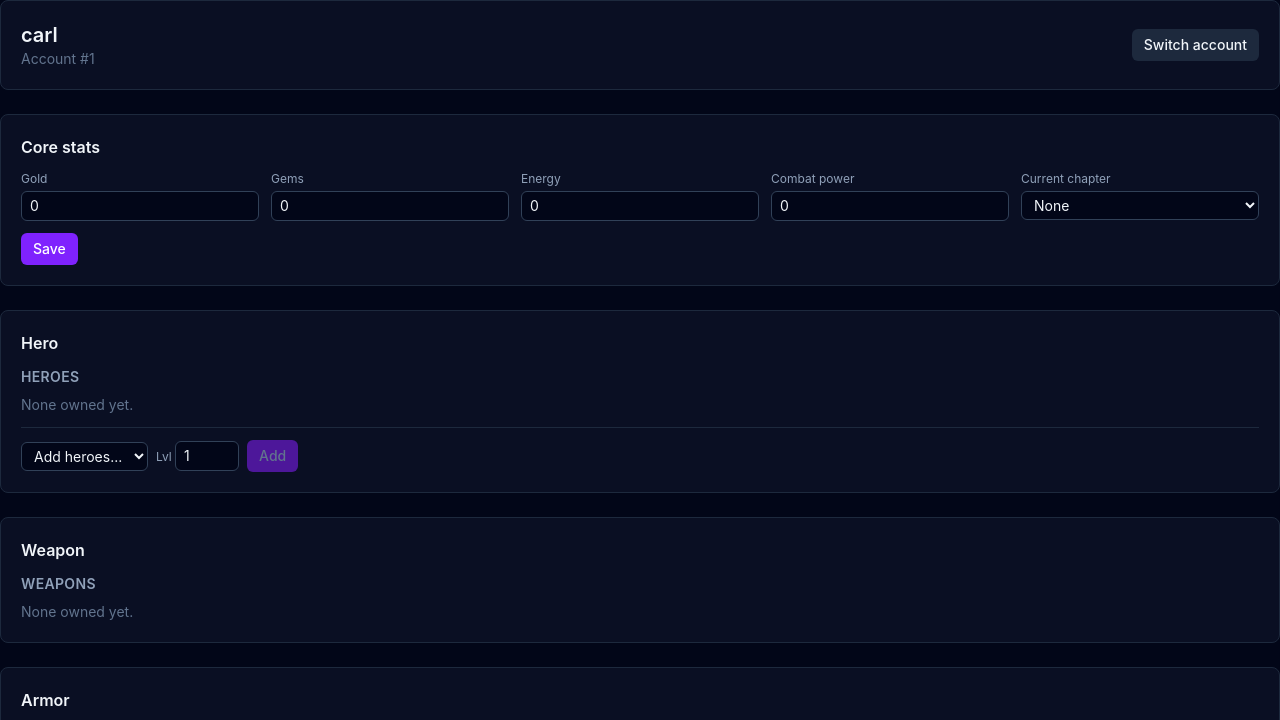
Test case: MyAccountPage › adds a hero and refreshes the account afterward
Expected: the heading "carl" is shown, [21, 23, 58, 47]
Select "Test Hero" in the dropdown "Add heroes..." at (84, 456), box [21, 442, 148, 470]
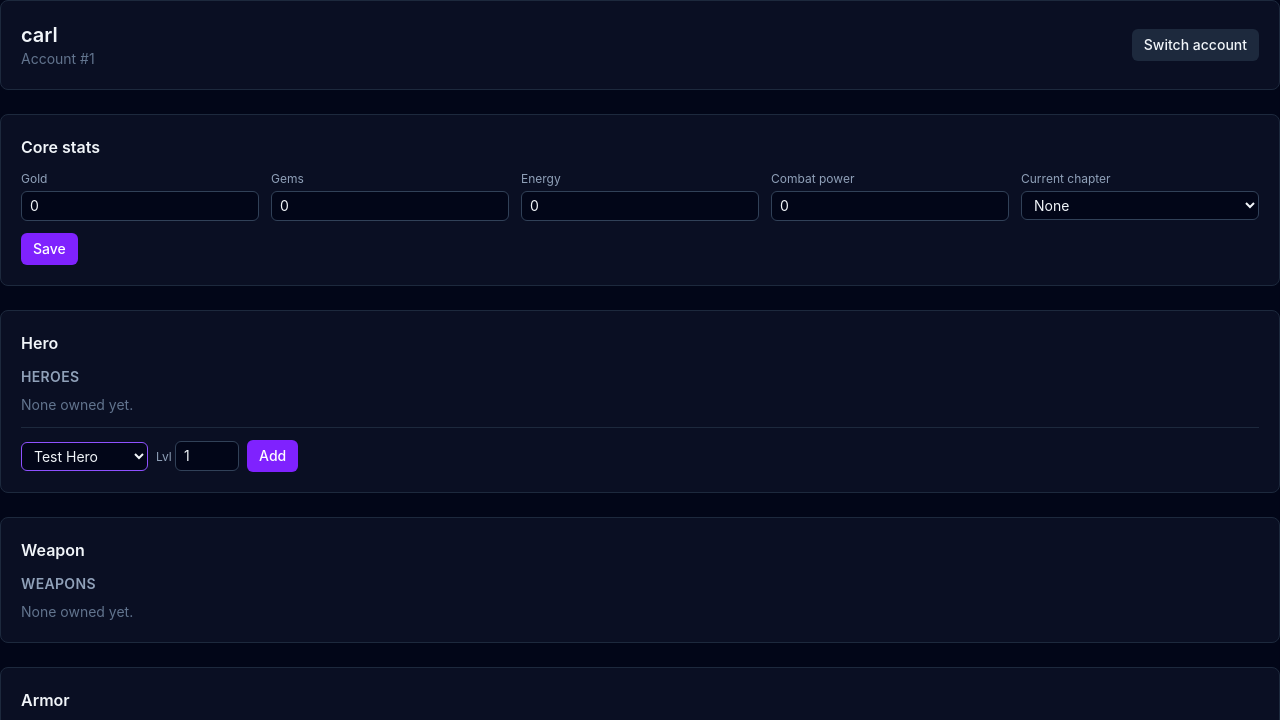
Click the button "Add" at (273, 456), box [247, 440, 298, 472]
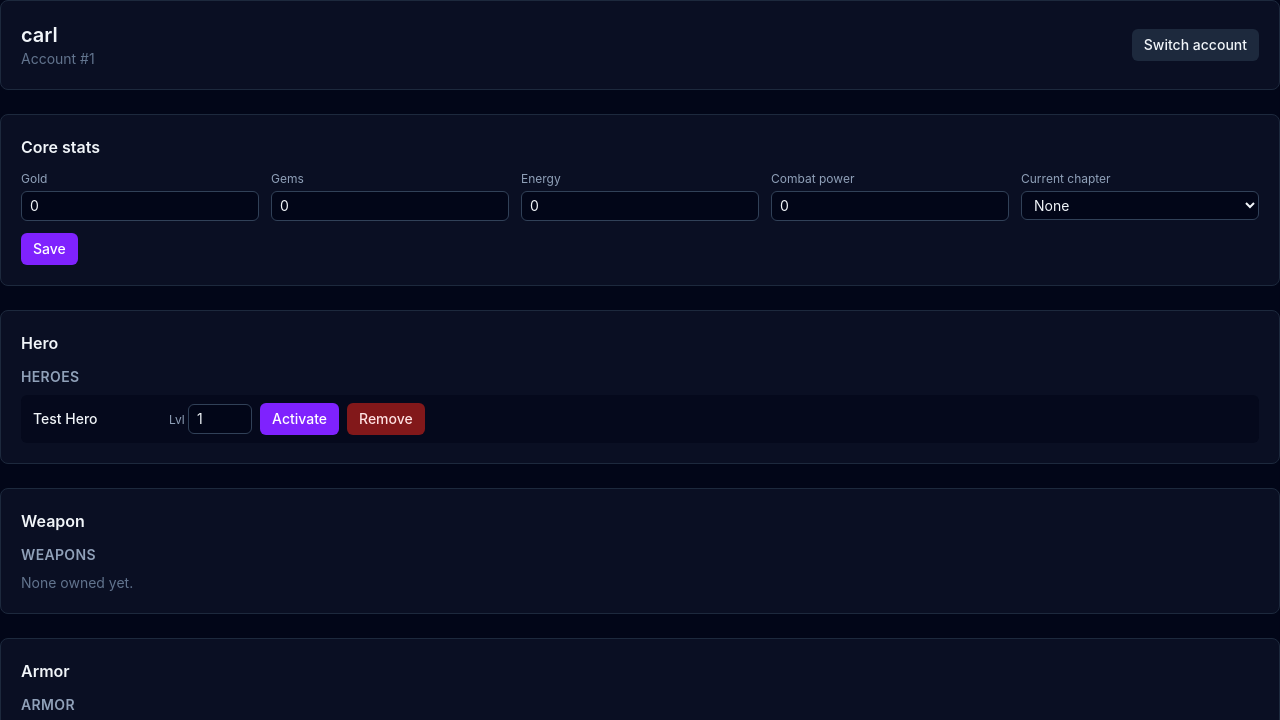
Expected: the text "Test Hero" is shown, [33, 410, 98, 427]
